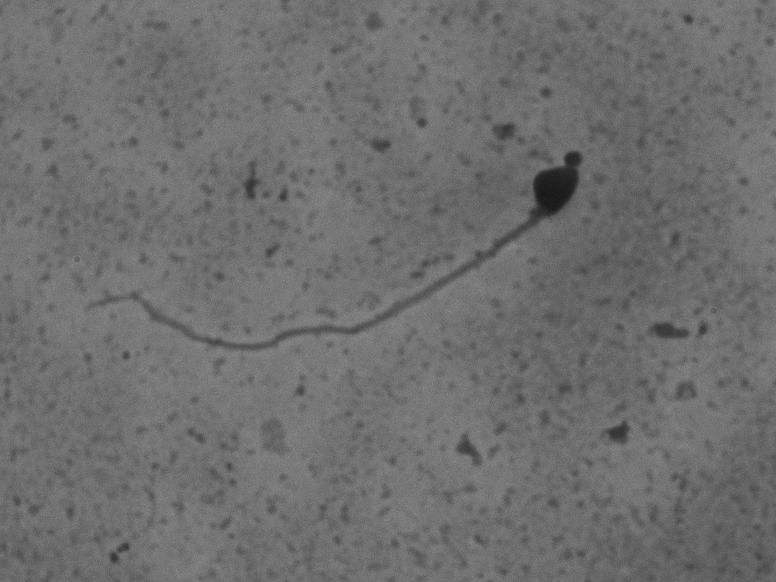Abnormal: (89, 146, 627, 419)
